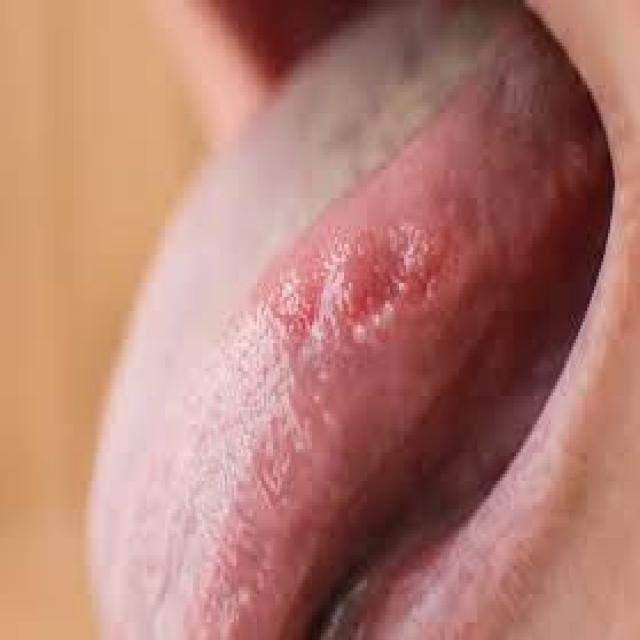left_region: (82, 0, 617, 636)
right_region: (259, 158, 533, 502)
